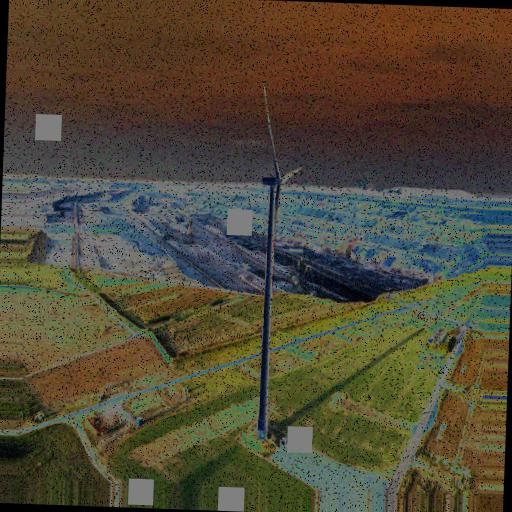wind turbine: (259, 86, 303, 435)
